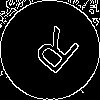R: (25, 25, 82, 83)
